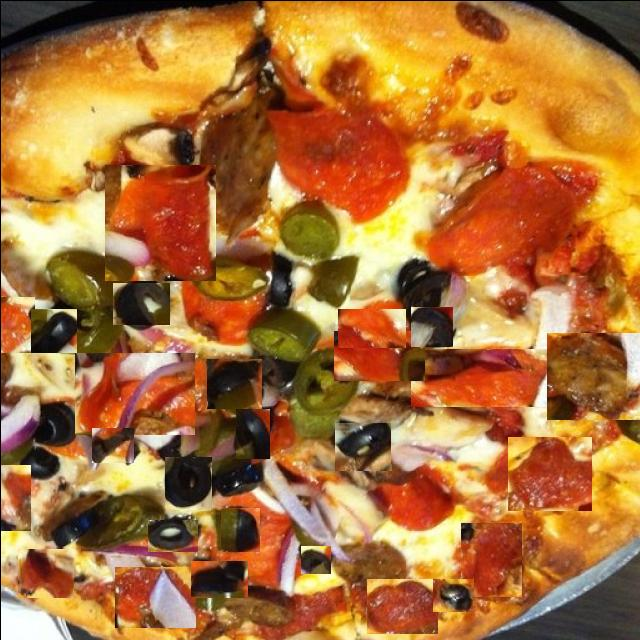olive: (206, 358, 261, 408), (334, 422, 390, 470), (400, 262, 452, 312), (164, 456, 211, 509), (112, 282, 169, 324), (188, 560, 246, 597), (30, 308, 76, 352), (214, 456, 258, 496), (220, 507, 259, 551), (235, 408, 269, 458), (410, 306, 452, 346), (254, 352, 295, 392), (12, 449, 58, 484), (147, 519, 197, 551), (91, 427, 133, 462), (432, 576, 472, 610), (40, 404, 72, 446), (268, 258, 290, 308), (170, 126, 192, 174), (300, 545, 330, 573)
pepperoni: (428, 162, 585, 274), (265, 102, 405, 224), (104, 164, 215, 280), (74, 352, 194, 434), (546, 332, 640, 419), (410, 348, 550, 406), (507, 436, 591, 510), (378, 463, 452, 534), (114, 566, 195, 627), (242, 587, 341, 636), (458, 522, 520, 596), (333, 330, 424, 380), (366, 578, 437, 633), (17, 546, 73, 596), (337, 308, 405, 347), (0, 464, 30, 530), (0, 296, 34, 352), (487, 406, 522, 445)
pizza: (0, 0, 640, 640)
